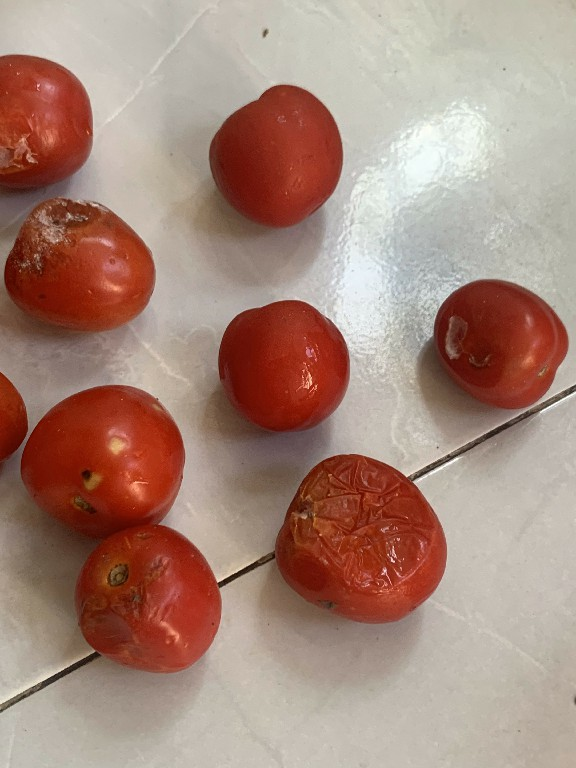NG: (261, 447, 456, 641), (10, 377, 193, 537), (63, 519, 229, 679), (0, 191, 159, 346), (430, 269, 576, 428), (0, 35, 98, 198)
OK: (187, 69, 358, 238), (210, 280, 346, 447)
